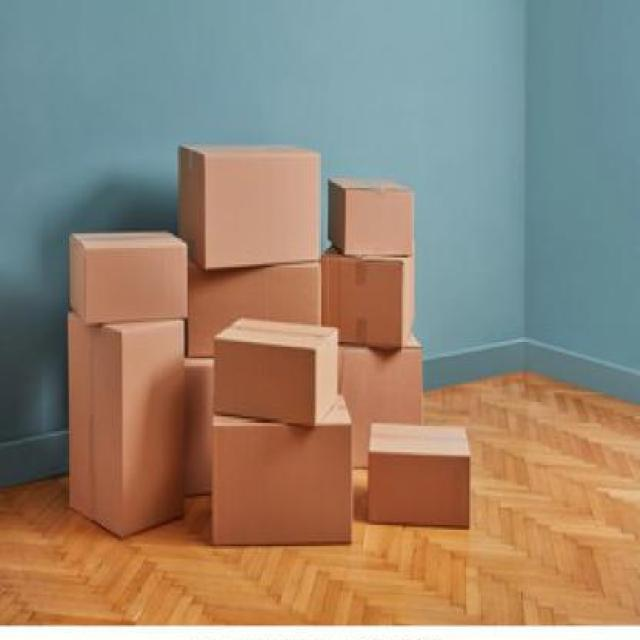box: (62, 313, 183, 542), (205, 399, 358, 558), (342, 350, 473, 527), (177, 128, 329, 274), (183, 250, 328, 374), (209, 306, 348, 434), (67, 224, 199, 340), (368, 413, 477, 538), (318, 247, 422, 362), (327, 161, 415, 262)
